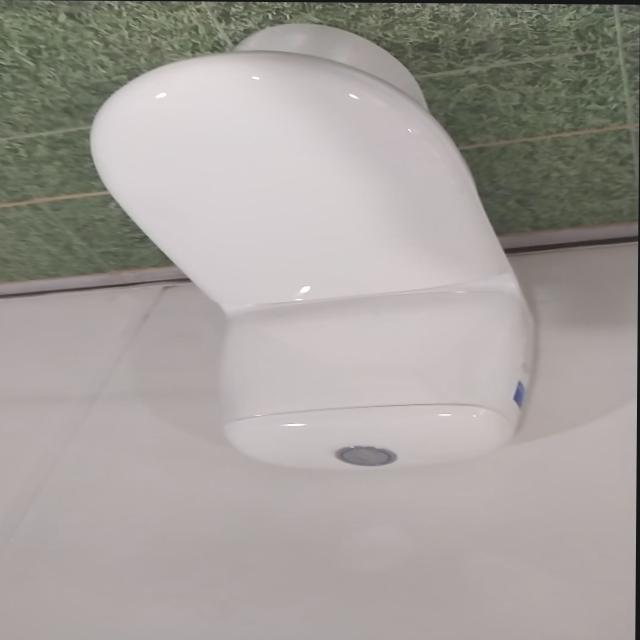toilet: (86, 22, 539, 472)
